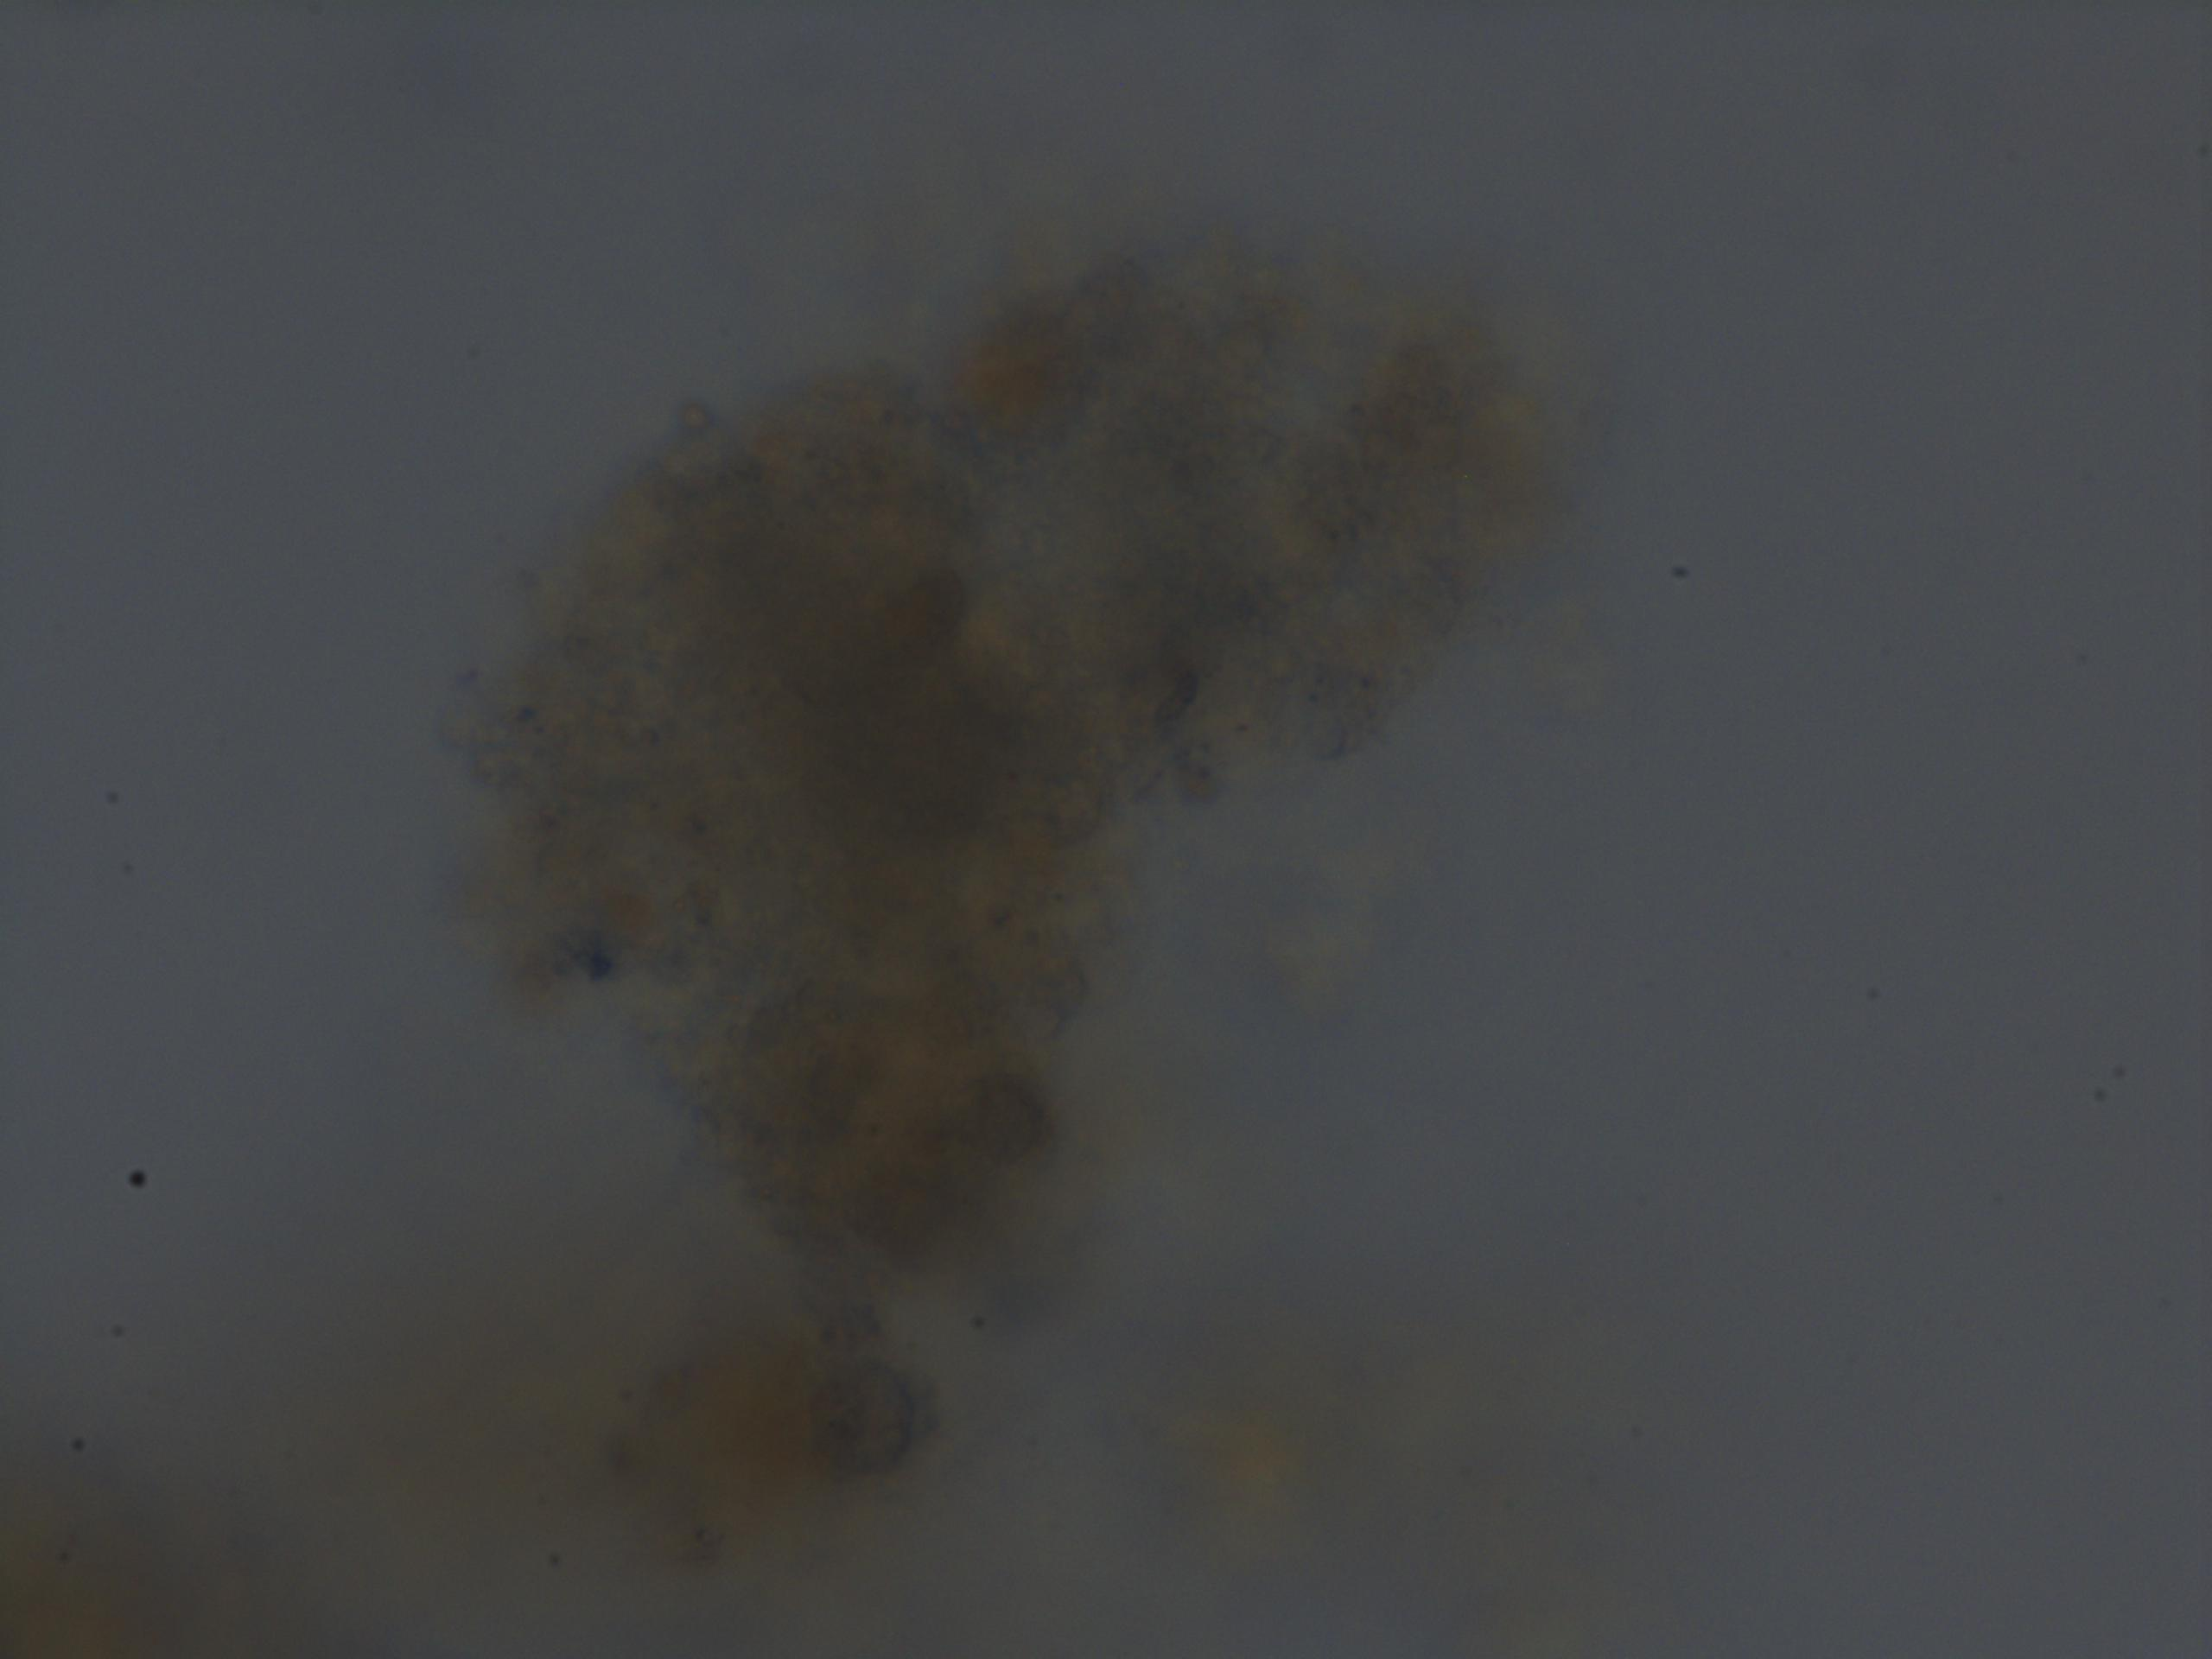spherical_floc: (460, 232, 1559, 1324)
